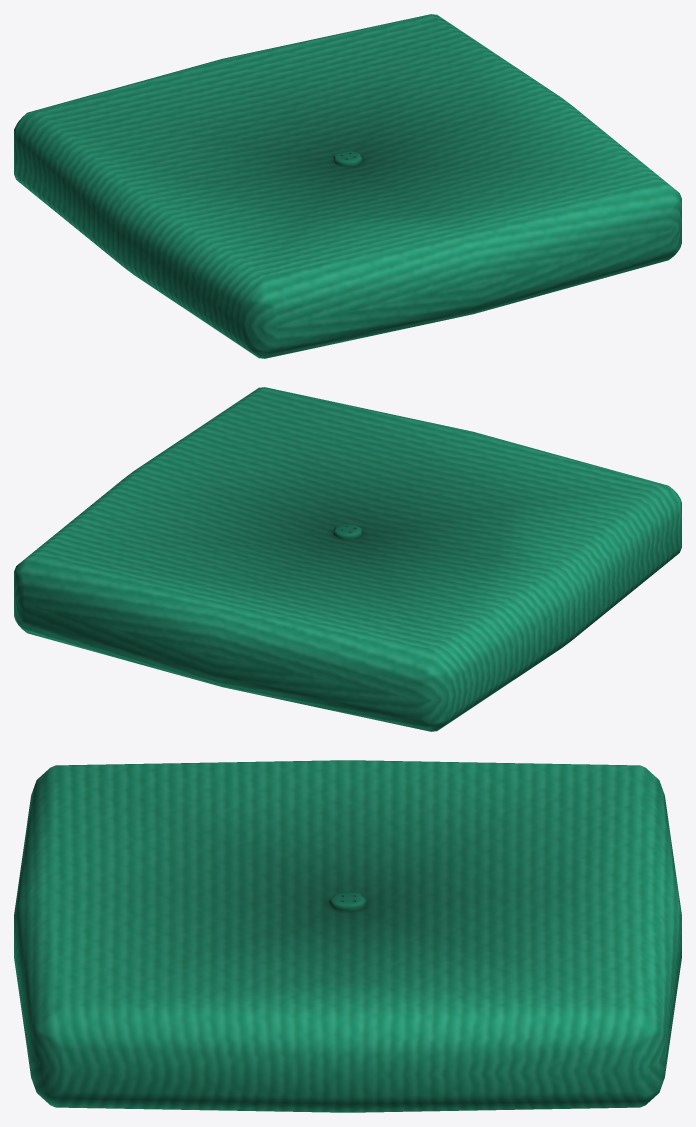
The model's file is Couch Cushion.FBX.
3 views of the same model, one above another, from view 1: azimuth 30°, elevation 25°; view 2: azimuth 150°, elevation 25°; view 3: azimuth 270°, elevation 25° (orthographic). The views are drawn at different scales.
Parts seen in each view (by area): view 1: Box001; view 2: Box001; view 3: Box001.
Boxes of the visible parts, left/top/right/bottom form: Box001: left=14, top=14, right=681, bottom=358; Box001: left=14, top=387, right=681, bottom=731; Box001: left=14, top=760, right=681, bottom=1112.
Bounding box in the file's own units: 62.48 × 10.5 × 63.24.
Materials: 1 (1 with a texture image).
